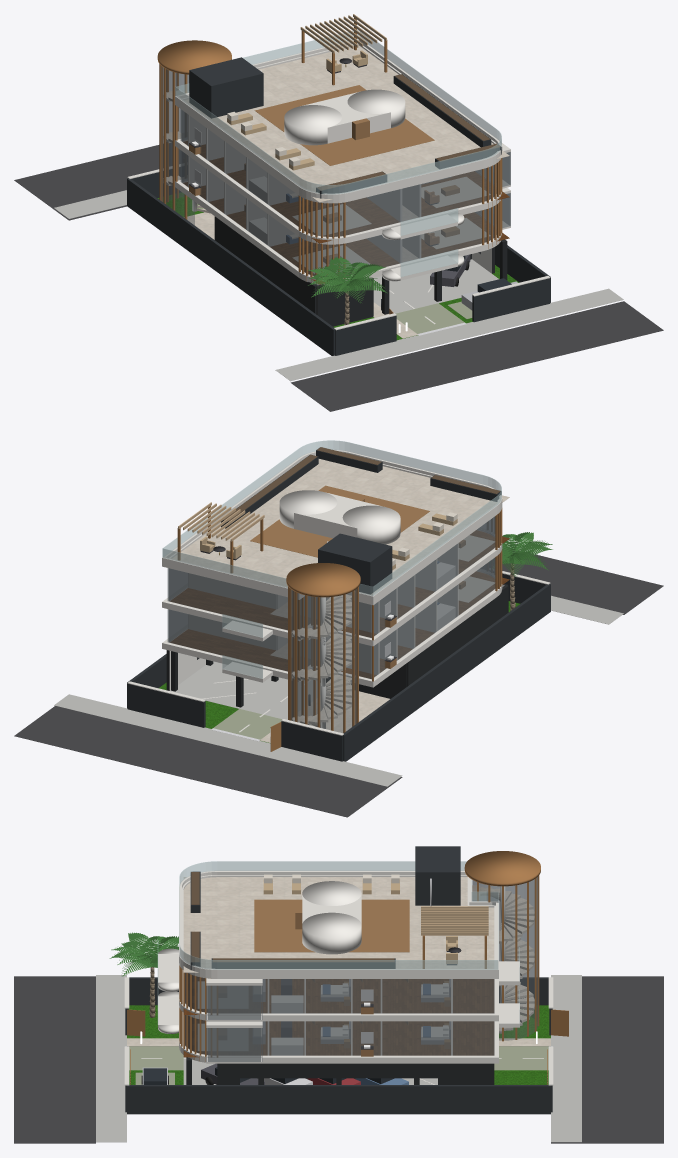
Rendered from immeuble-r2-traversant.glb.
3 renders of one model, top to bottom at view 1: azimuth 30°, elevation 25°; view 2: azimuth 150°, elevation 25°; view 3: azimuth 270°, elevation 25°, orthographic. The views are drawn at different scales.
Visible parts, largest first — view 1: sol-avenue, sol-toiture, vitrage.001, vitrage, cloture.004, garde-corps-toit, sol-trottoir, sol-avenue.001, sol-plage, local-filtration, acrotere, sol-etage2 (+30 smaller); view 2: sol-avenue.001, sol-toiture, vitrage.001, vitrage, vitre-tour, cloture.004, garde-corps-toit, sol-trottoir.001, sol-avenue, acrotere, local-filtration, facade.013 (+37 smaller); view 3: sol-avenue.001, sol-avenue, cloture.005, sol-toiture, vitrage, vitrage.001, garde-corps-toit, sol-plage, sol-trottoir, sol-etage1, vitre-tour, sol-etage2 (+34 smaller).
Boxes of the visible parts, x1=… form: sol-avenue: x1=291, y1=301, x2=663, y2=411; sol-toiture: x1=185, y1=54, x2=509, y2=202; vitrage.001: x1=180, y1=109, x2=496, y2=236; vitrage: x1=180, y1=150, x2=496, y2=276; cloture.004: x1=127, y1=178, x2=334, y2=355; garde-corps-toit: x1=175, y1=29, x2=501, y2=194; sol-trottoir: x1=275, y1=288, x2=623, y2=381; sol-avenue.001: x1=14, y1=143, x2=180, y2=220; sol-plage: x1=254, y1=85, x2=434, y2=165; local-filtration: x1=189, y1=57, x2=263, y2=118; acrotere: x1=175, y1=39, x2=502, y2=198; sol-etage2: x1=183, y1=141, x2=509, y2=243; sol-avenue.001: x1=14, y1=706, x2=402, y2=817; sol-toiture: x1=181, y1=459, x2=509, y2=594; vitrage.001: x1=167, y1=516, x2=495, y2=637; vitrage: x1=167, y1=557, x2=495, y2=679; vitre-tour: x1=290, y1=589, x2=357, y2=732; cloture.004: x1=343, y1=584, x2=550, y2=761; garde-corps-toit: x1=162, y1=440, x2=501, y2=595; sol-trottoir.001: x1=54, y1=694, x2=402, y2=786; sol-avenue: x1=502, y1=547, x2=663, y2=614; acrotere: x1=162, y1=449, x2=502, y2=599; local-filtration: x1=318, y1=533, x2=392, y2=594; facade.013: x1=406, y1=585, x2=508, y2=686; sol-avenue.001: x1=551, y1=976, x2=663, y2=1143; sol-avenue: x1=14, y1=976, x2=95, y2=1143; cloture.005: x1=127, y1=1085, x2=550, y2=1114; sol-toiture: x1=183, y1=877, x2=467, y2=972; vitrage: x1=185, y1=1015, x2=494, y2=1055; vitrage.001: x1=185, y1=972, x2=494, y2=1013; garde-corps-toit: x1=179, y1=861, x2=498, y2=969; sol-plage: x1=254, y1=899, x2=409, y2=952; sol-trottoir: x1=96, y1=975, x2=126, y2=1142; sol-etage1: x1=183, y1=1015, x2=467, y2=1057; vitre-tour: x1=472, y1=877, x2=538, y2=1040; sol-etage2: x1=183, y1=973, x2=467, y2=1014.
Bounding box in the file's own units: 28 × 13.36 × 46.
42 materials, 4 textured.
